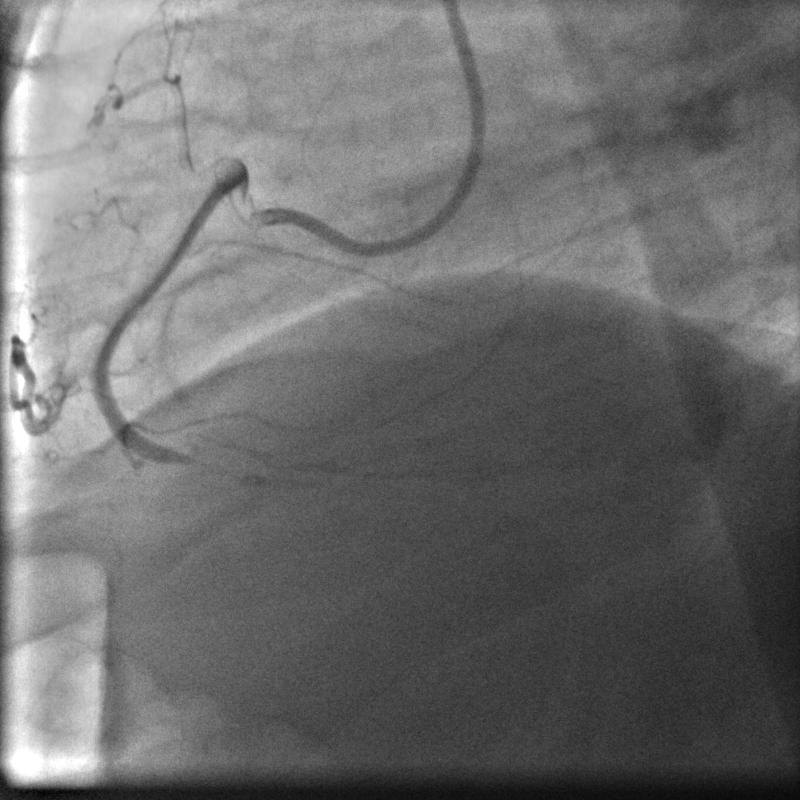Stenosis: (158, 441, 224, 476)
